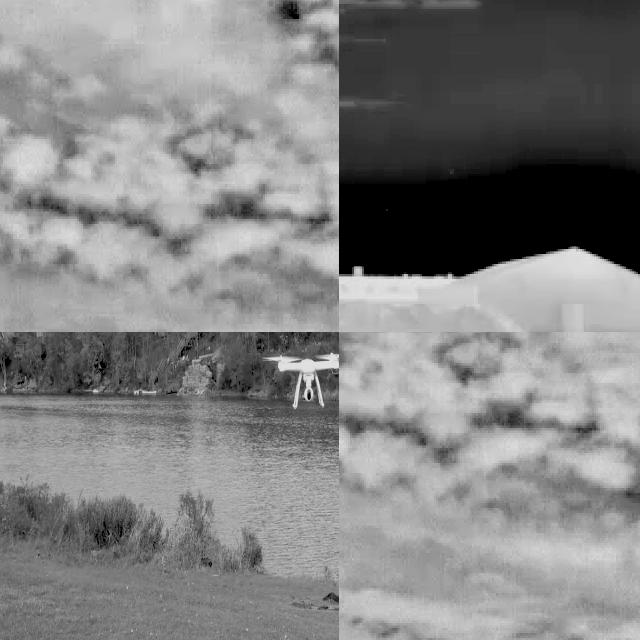0: (0, 86, 9, 123)
drone: (275, 348, 339, 415)
